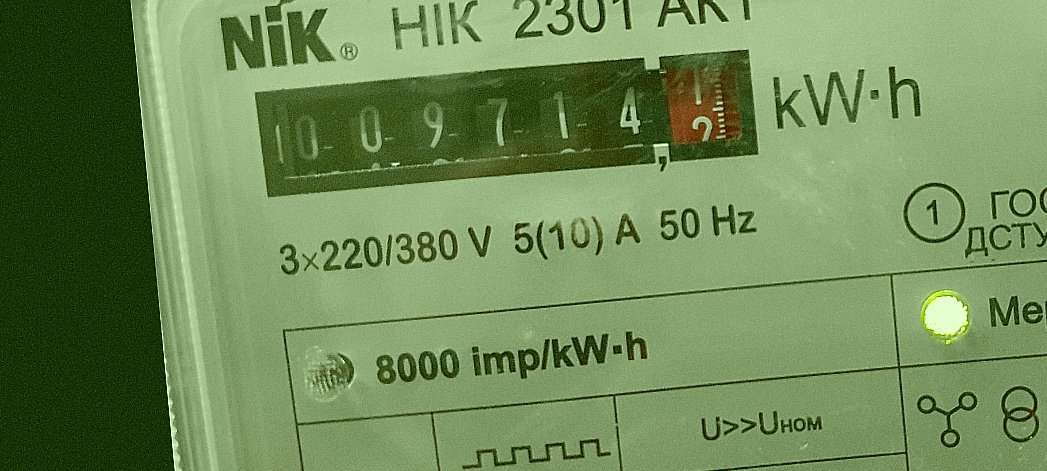0: (290, 109, 323, 165), (354, 100, 385, 155)
1: (547, 85, 575, 142), (687, 64, 705, 107)
2: (688, 111, 715, 143)
4: (612, 82, 645, 139)
7: (483, 94, 514, 149)
9: (416, 96, 449, 151)
screen: (238, 28, 777, 220)
